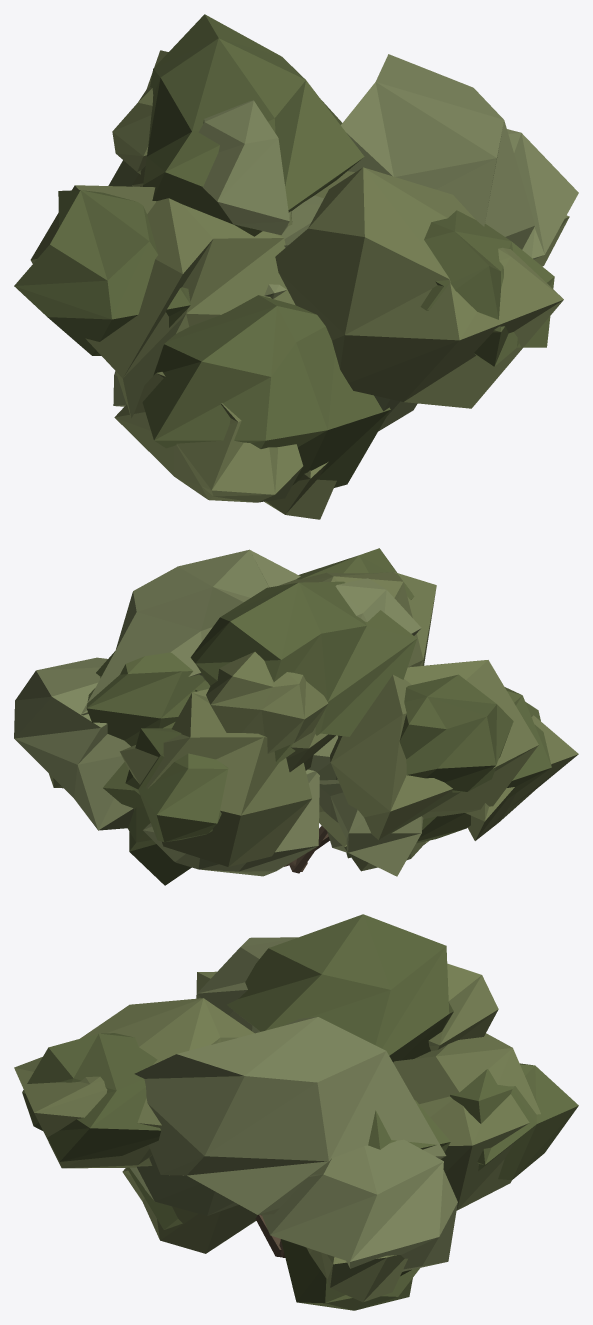
The picture shows the model from 3 angles, top to bottom: view 1: azimuth 30°, elevation 25°; view 2: azimuth 150°, elevation 25°; view 3: azimuth 270°, elevation 25°; orthographic projection. The views are drawn at different scales.
Visible parts, largest first — view 1: bush; view 2: bush; view 3: bush.
Part boxes in pixels (left/top/right/bottom): bush: left=14, top=14, right=578, bottom=519; bush: left=14, top=548, right=578, bottom=885; bush: left=14, top=914, right=578, bottom=1310.
Size of the model in its own units: 5.86 by 3.8 by 5.83.
